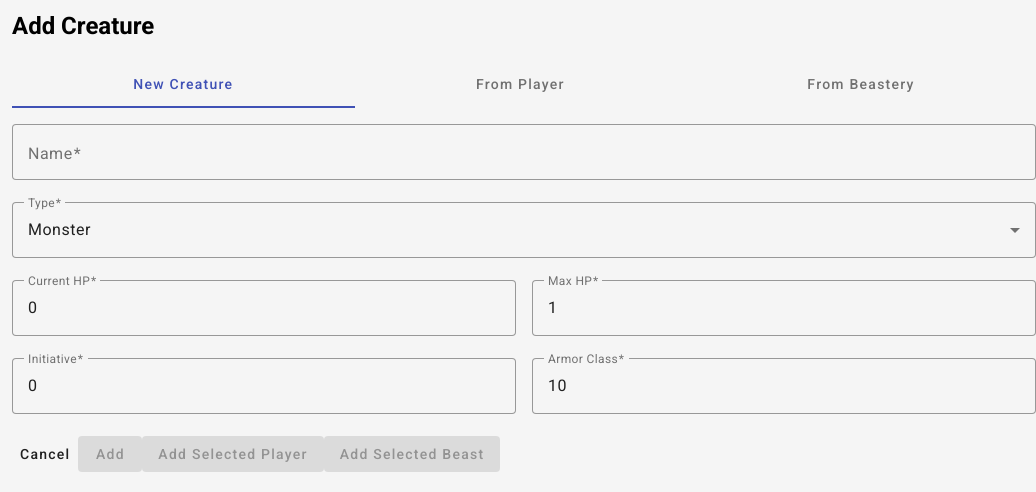
Scenario: CreatureDialogComponent › Add Mode › should enable submit button when form is valid
The image size is (1036, 492).
Type "Goblin" into the field labelled "Name".
click(524, 152); type("Goblin")  # box [28,140,1020,164]
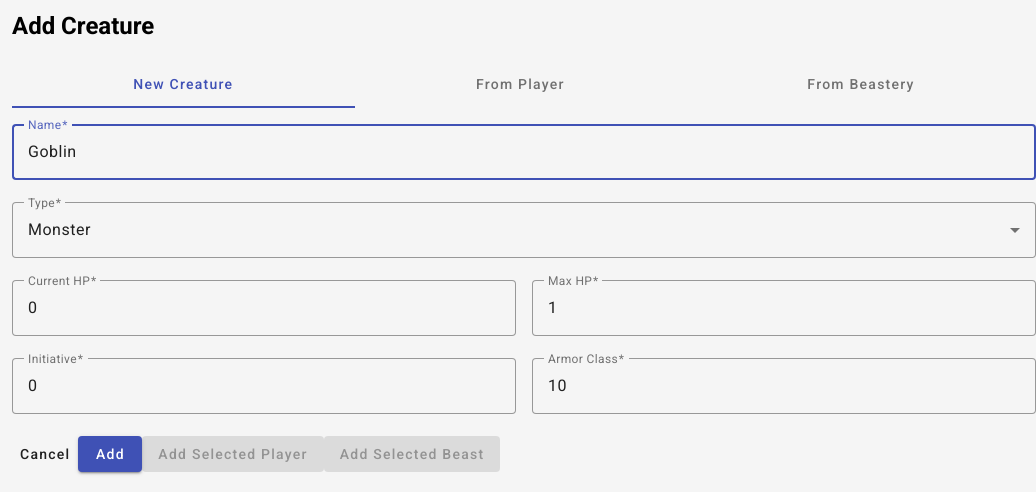
expect the button "Add" is enabled: met, box [78,436,142,472]
